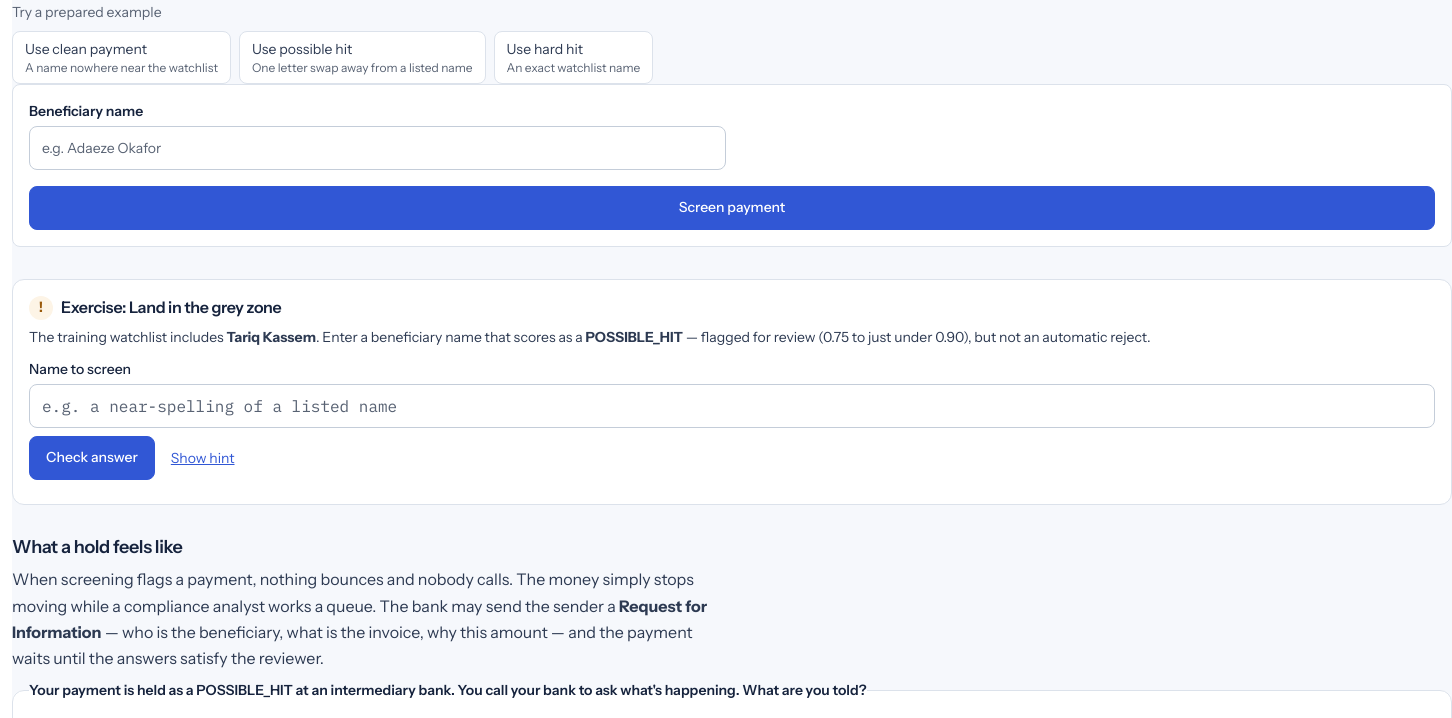
Test case: SanctionsContent › rejects a clearly different name in the exercise as CLEAR
The image size is (1452, 718).
(page scrolled)
Type "Adaeze Okafor" into the field labelled "Name to screen" at (732, 406), box [29, 384, 1435, 428]
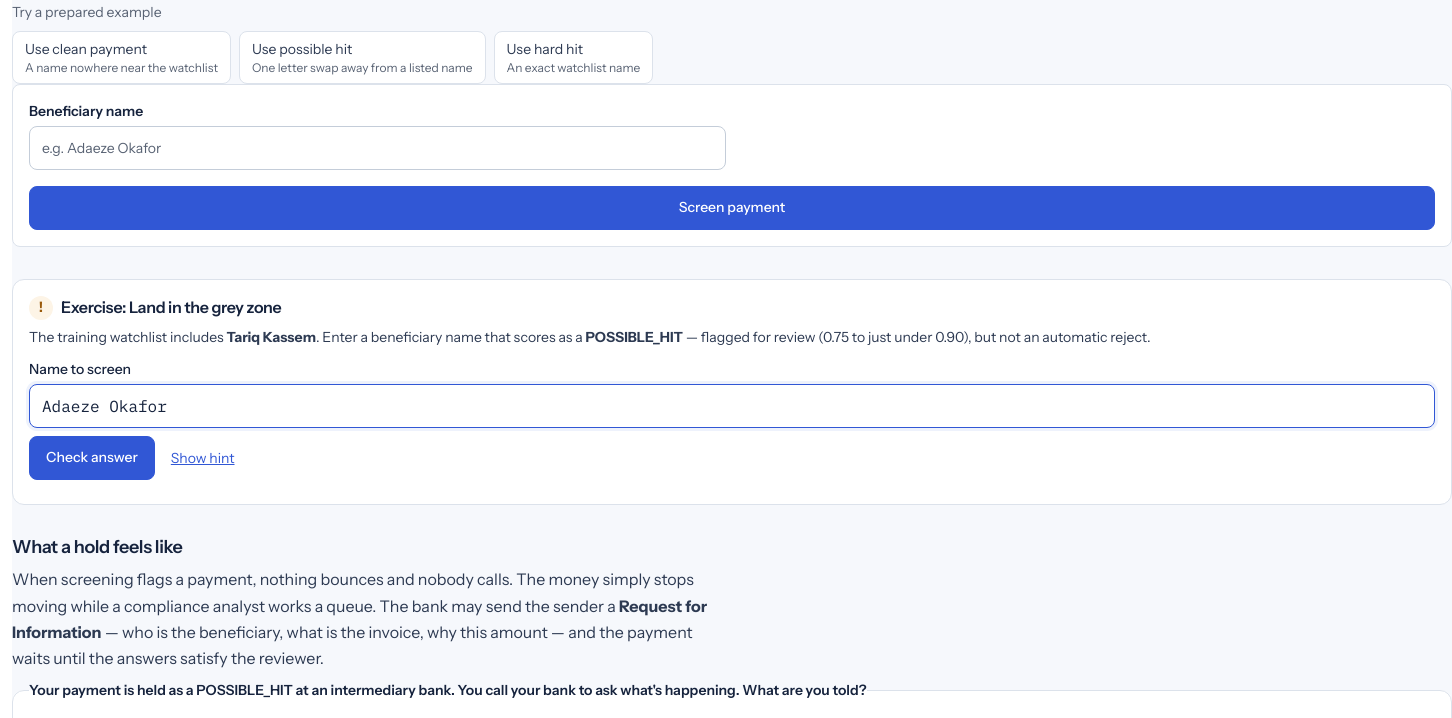
Click the button "Check answer" at (92, 458), box [29, 436, 155, 480]
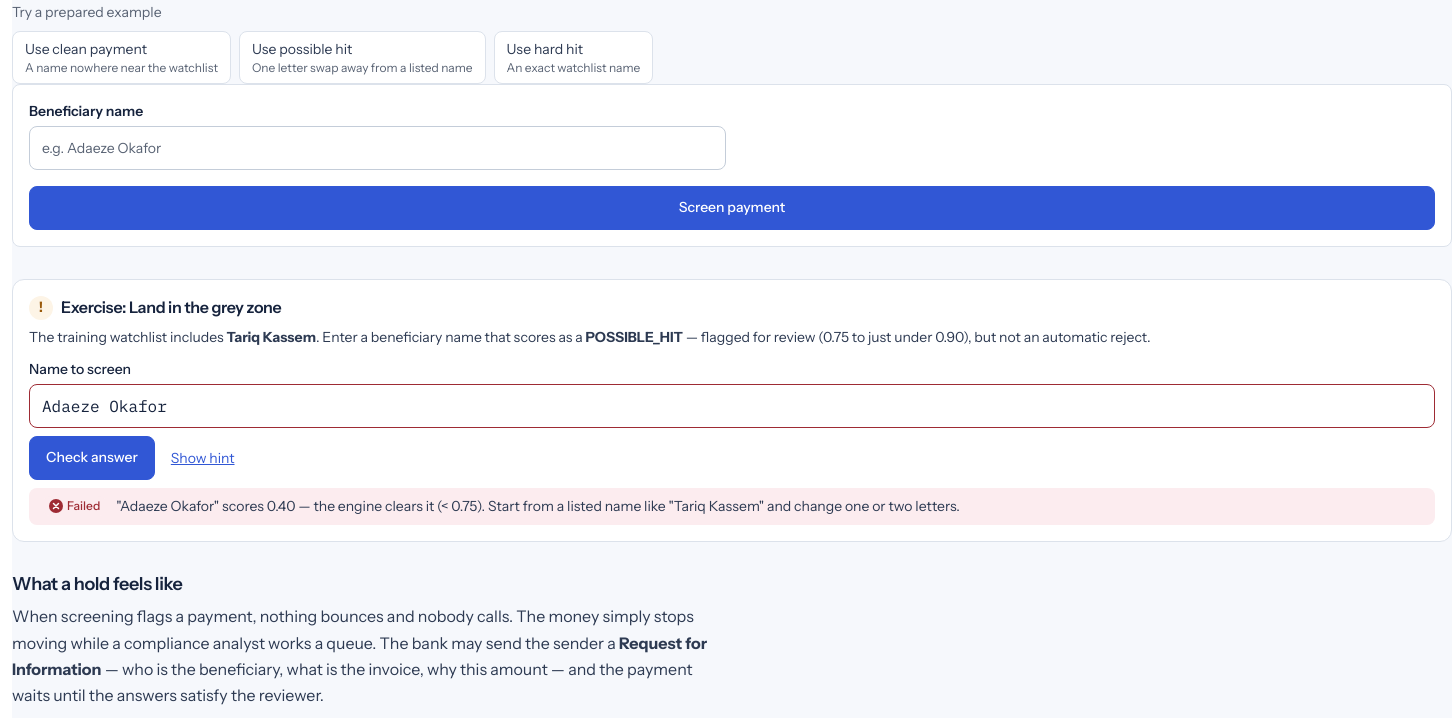
Expected: the text "the engine clears it" is shown, [116, 496, 960, 514]
